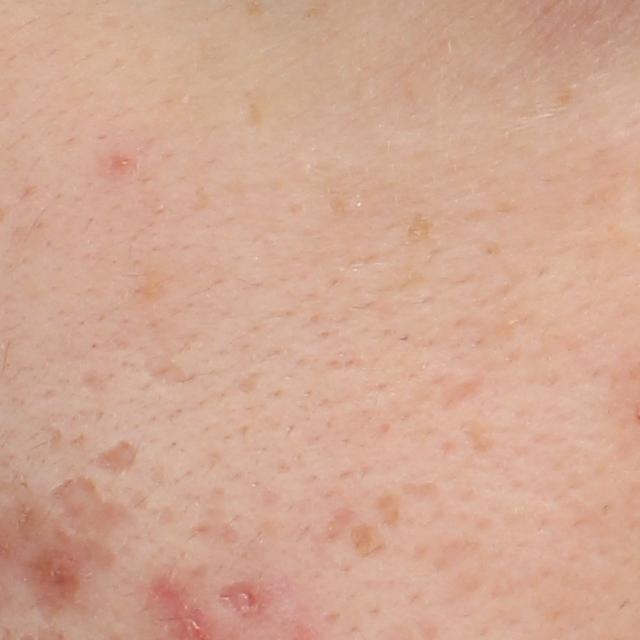atrophic_scar: (142, 351, 186, 391), (216, 579, 264, 615), (90, 439, 138, 473), (322, 502, 361, 543), (445, 373, 488, 407), (376, 490, 405, 533), (350, 518, 379, 560), (79, 369, 118, 397), (236, 367, 262, 395), (48, 426, 67, 458), (70, 431, 91, 453)
